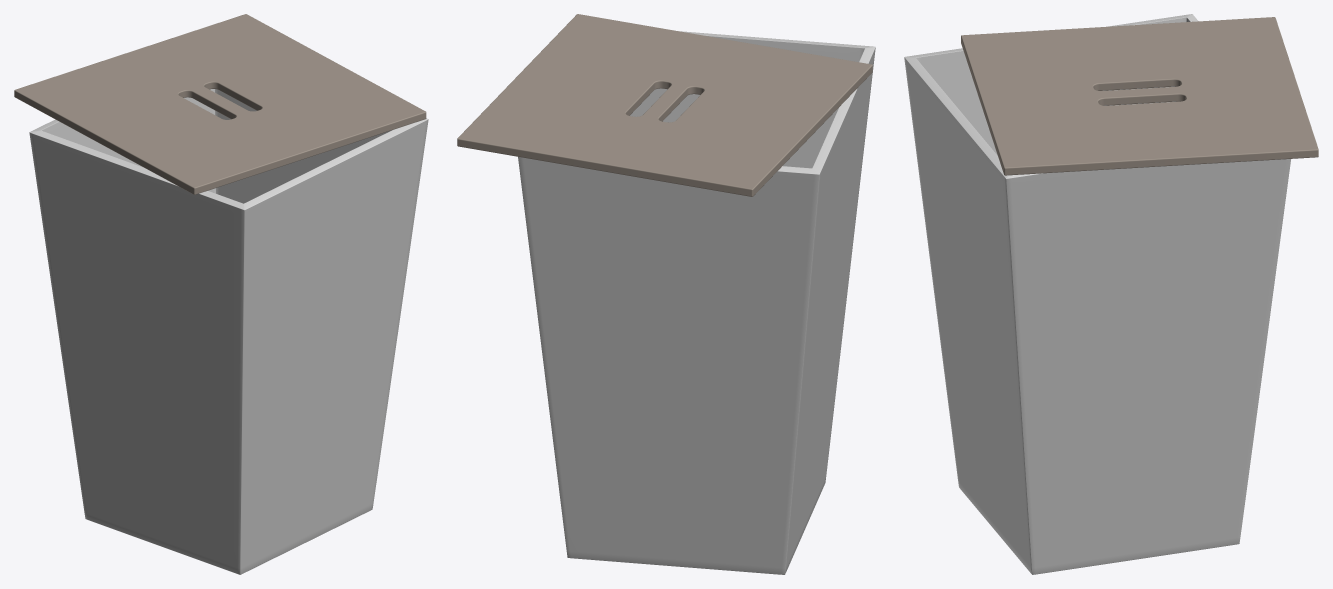
Rendered from Trashcan_11.5.fbx.
3 views of the same model, side by side, from view 1: azimuth 30°, elevation 25°; view 2: azimuth 150°, elevation 25°; view 3: azimuth 270°, elevation 25° (orthographic). The views are drawn at different scales.
Visible parts, largest first — view 1: Arch46_068_2, Arch46_068_3; view 2: Arch46_068_2, Arch46_068_3; view 3: Arch46_068_2, Arch46_068_3.
Boxes of the visible parts, box(x1,y1,x2,y2) form: Arch46_068_2: box(29, 89, 428, 574); Arch46_068_3: box(14, 14, 426, 194); Arch46_068_2: box(518, 31, 875, 574); Arch46_068_3: box(457, 14, 872, 196); Arch46_068_2: box(904, 14, 1290, 574); Arch46_068_3: box(961, 17, 1318, 175).
Size of the model in its own units: 64.36 by 78.1 by 68.4.
